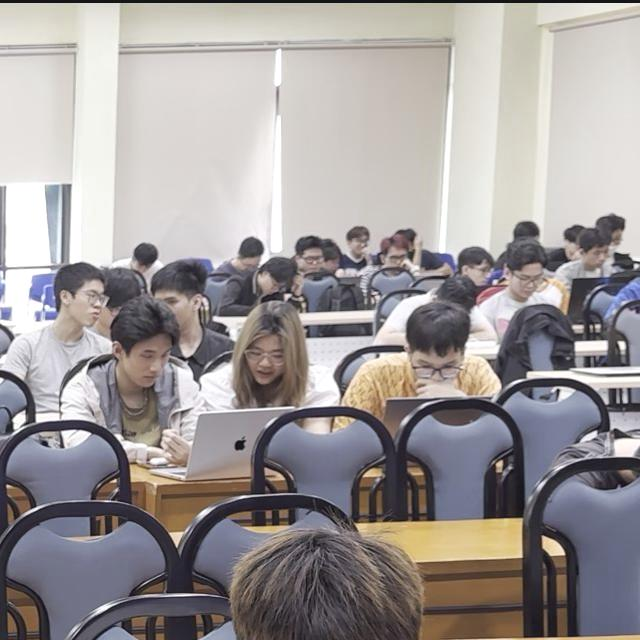Looking away: (409, 348, 462, 401), (246, 328, 289, 385), (63, 277, 106, 330), (509, 259, 545, 301)
Phone use: (56, 301, 198, 472)
